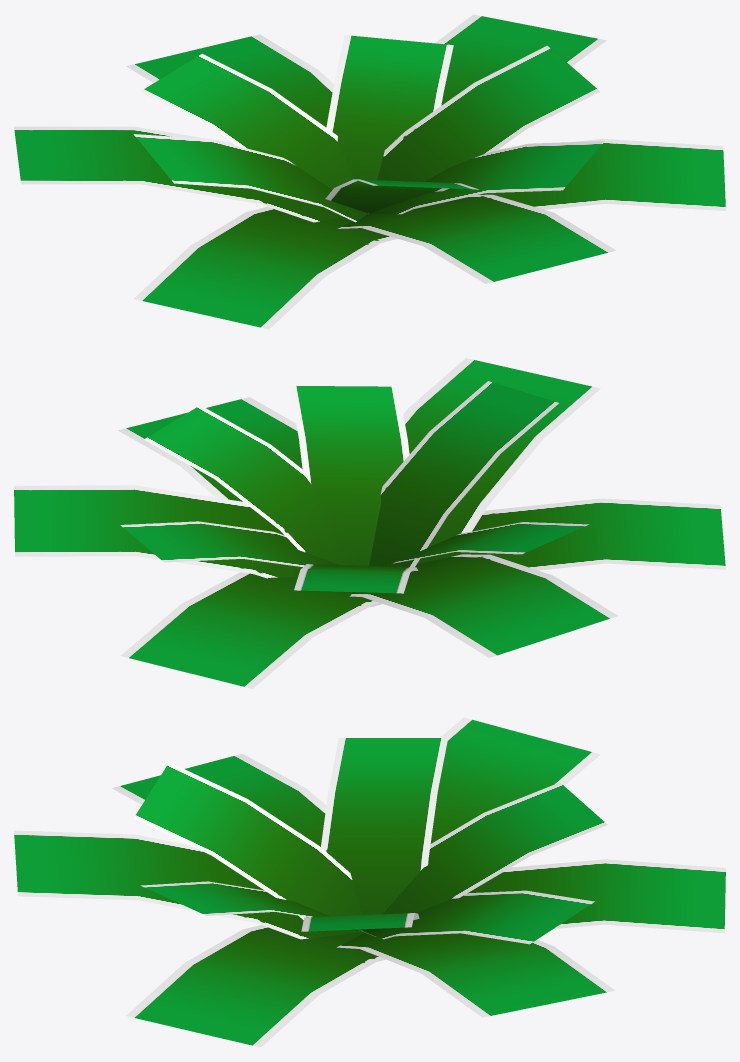
File: FernTestNoAlpha.FBX
3 renders of one model, top to bottom at view 1: azimuth 30°, elevation 25°; view 2: azimuth 150°, elevation 25°; view 3: azimuth 270°, elevation 25°, orthographic.
Visible parts, largest first — view 1: FernTest1; view 2: FernTest1; view 3: FernTest1.
Boxes of the visible parts, x1,y1,x2,y2 form: FernTest1: (14,14,725,329); FernTest1: (14,358,725,688); FernTest1: (14,717,725,1047).
Bounding box in the file's own units: 231 × 47.39 × 236.
